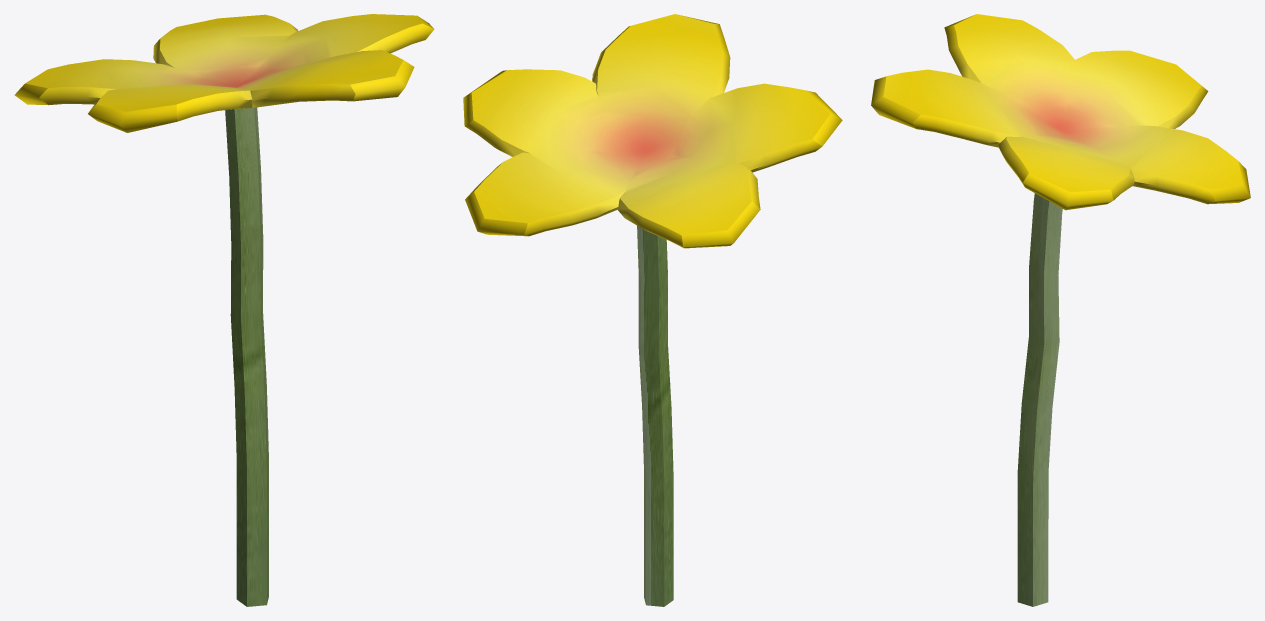
File: Flower.obj
3 renders of one model, left to right at view 1: azimuth 30°, elevation 25°; view 2: azimuth 150°, elevation 25°; view 3: azimuth 270°, elevation 25°, orthographic. The views are drawn at different scales.
Parts seen in each view (by area): view 1: group4_pasted__pCube1, Flower_Mesh:pCylinder1; view 2: group4_pasted__pCube1, Flower_Mesh:pCylinder1; view 3: group4_pasted__pCube1, Flower_Mesh:pCylinder1.
Part boxes in pixels (x1,y1,x2,y2): group4_pasted__pCube1: (14,14,434,132); Flower_Mesh:pCylinder1: (225,107,268,606); group4_pasted__pCube1: (463,14,842,248); Flower_Mesh:pCylinder1: (637,225,673,606); group4_pasted__pCube1: (871,14,1250,210); Flower_Mesh:pCylinder1: (1017,193,1062,606).
Size of what is drawn, in the model's own units: 3.39 by 5.02 by 3.25.
2 materials, 2 textured.
